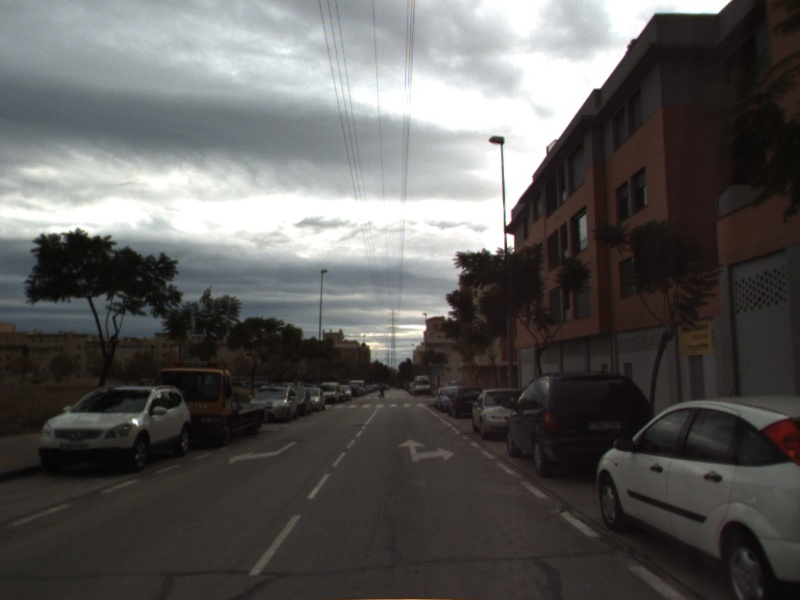STRAIGHT_RIGHT: (396, 437, 456, 463)
